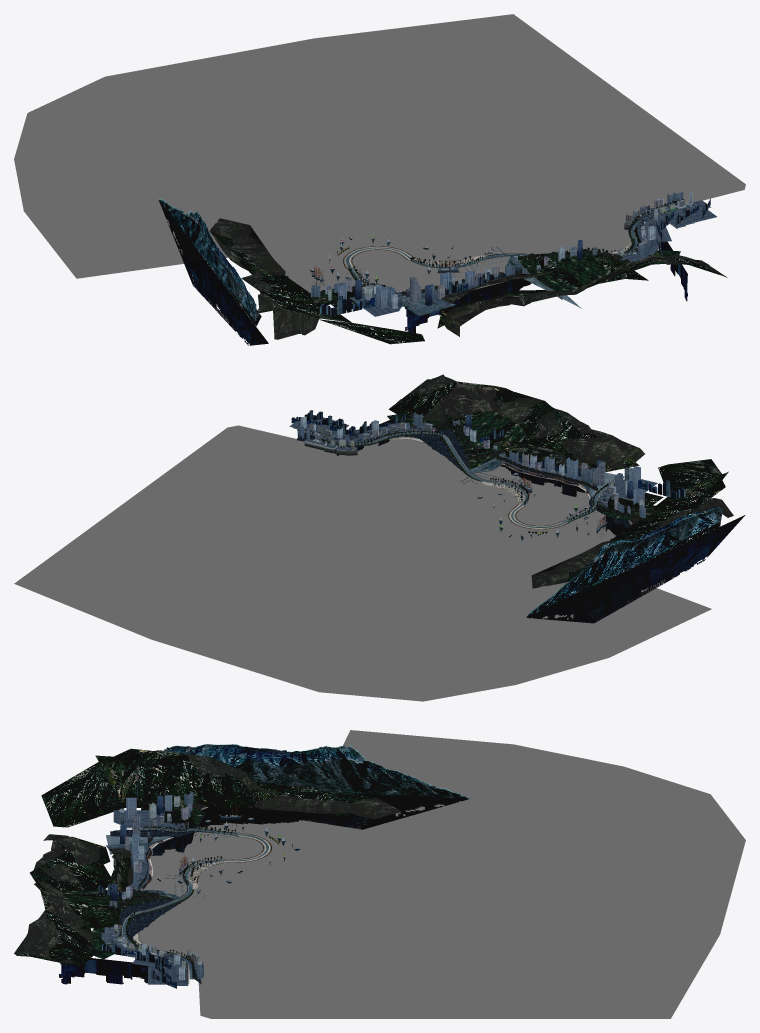
File: stage-beac-br.glb
3 renders of one model, top to bottom at view 1: azimuth 30°, elevation 25°; view 2: azimuth 150°, elevation 25°; view 3: azimuth 270°, elevation 25°, orthographic. The views are drawn at different scales.
Parts seen in each view (by area): view 1: part 5, part 1, env part 1, part 3, env part 2, part 4, env part 0, part 0; view 2: part 5, part 1, env part 1, part 3, part 2, env part 2, env part 0, part 4, part 0; view 3: part 5, part 1, env part 1, part 3, part 4, env part 2, env part 0, part 0, part 2.
Boxes of the visible parts, bbox=[...] form: part 5: bbox=[14, 14, 745, 299]; part 1: bbox=[158, 199, 727, 345]; env part 1: bbox=[159, 200, 726, 344]; part 3: bbox=[311, 192, 698, 318]; env part 2: bbox=[348, 199, 684, 307]; part 4: bbox=[309, 234, 508, 285]; env part 0: bbox=[343, 211, 658, 286]; part 0: bbox=[343, 203, 685, 300]; part 5: bbox=[14, 425, 711, 701]; part 1: bbox=[289, 374, 745, 622]; env part 1: bbox=[304, 379, 728, 616]; part 3: bbox=[297, 412, 685, 523]; part 2: bbox=[305, 422, 658, 521]; env part 2: bbox=[305, 423, 629, 521]; env part 0: bbox=[321, 432, 598, 529]; part 4: bbox=[459, 472, 607, 540]; part 0: bbox=[304, 431, 614, 529]; part 5: bbox=[137, 730, 745, 1018]; part 1: bbox=[14, 744, 469, 985]; env part 1: bbox=[14, 746, 465, 979]; part 3: bbox=[98, 778, 239, 980]; part 4: bbox=[157, 806, 299, 897]; env part 2: bbox=[114, 813, 235, 978]; env part 0: bbox=[122, 827, 271, 976]; part 0: bbox=[122, 827, 271, 979]; part 2: bbox=[107, 792, 234, 978].
Bounding box in the file's own units: 5591 × 734 × 5986.
185 materials, 181 textured.
